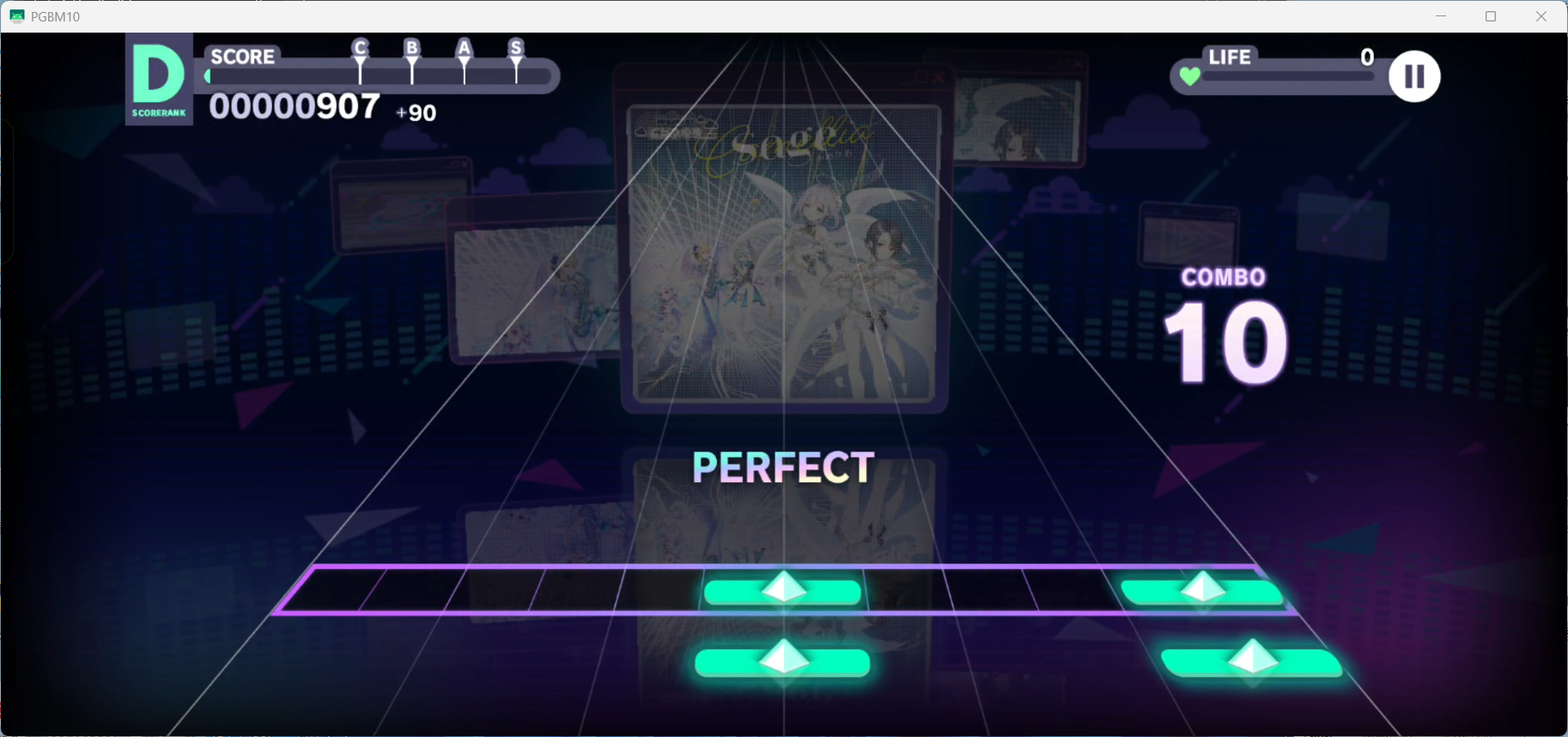sweep: (1161, 637, 1344, 679), (696, 638, 872, 679), (1121, 571, 1285, 607), (703, 570, 861, 607)
